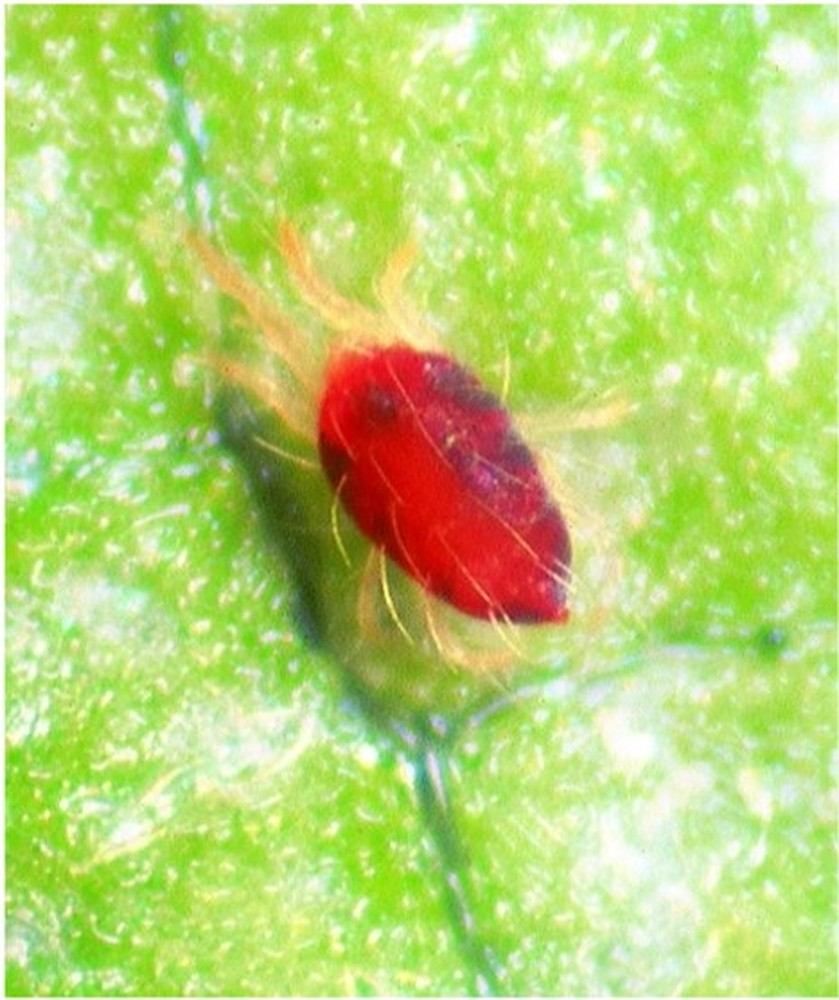Aracnido Rojo: (157, 207, 680, 741)
